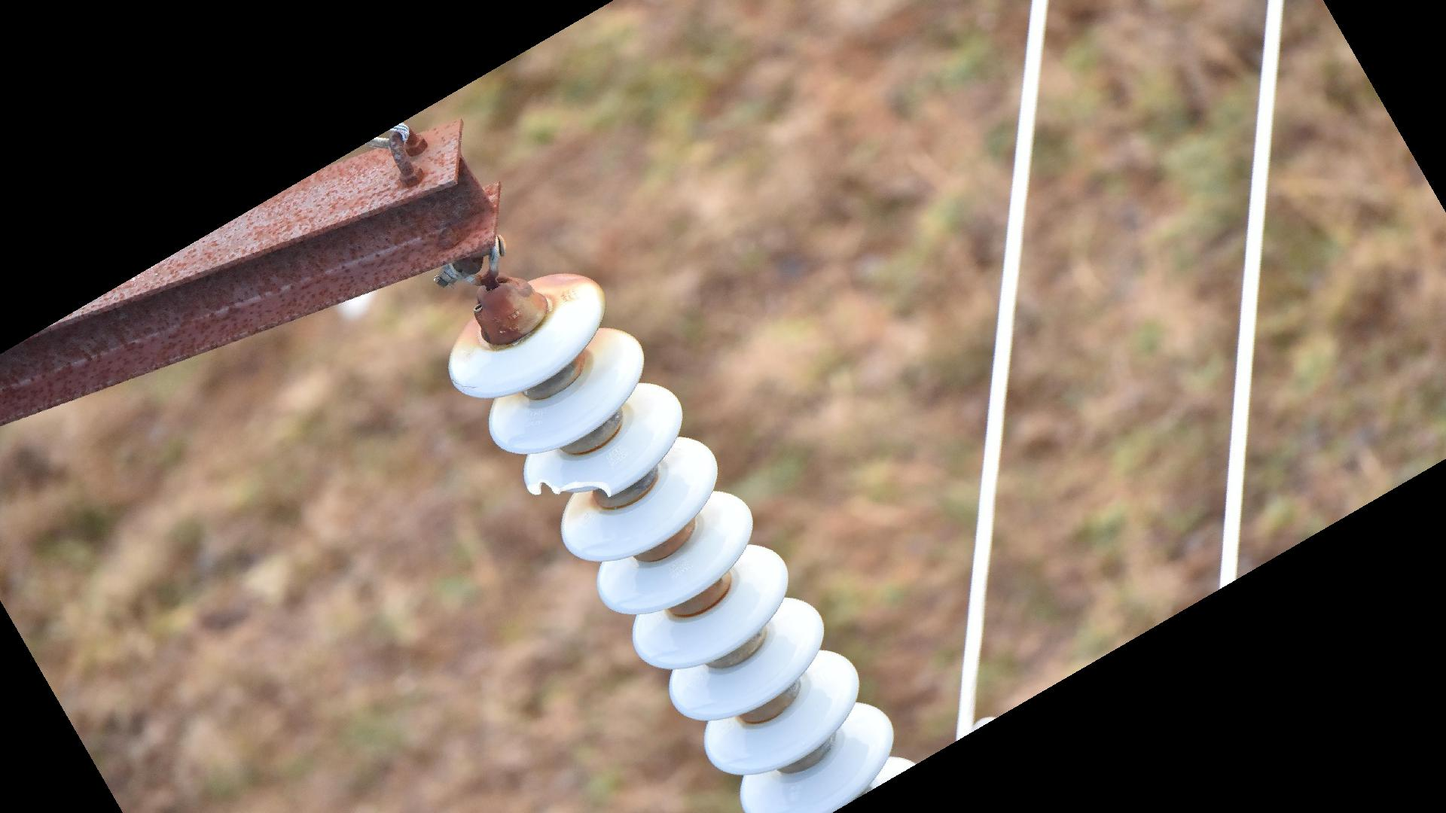insulator: (441, 265, 917, 813)
insulator_breakage: (516, 472, 619, 504)
